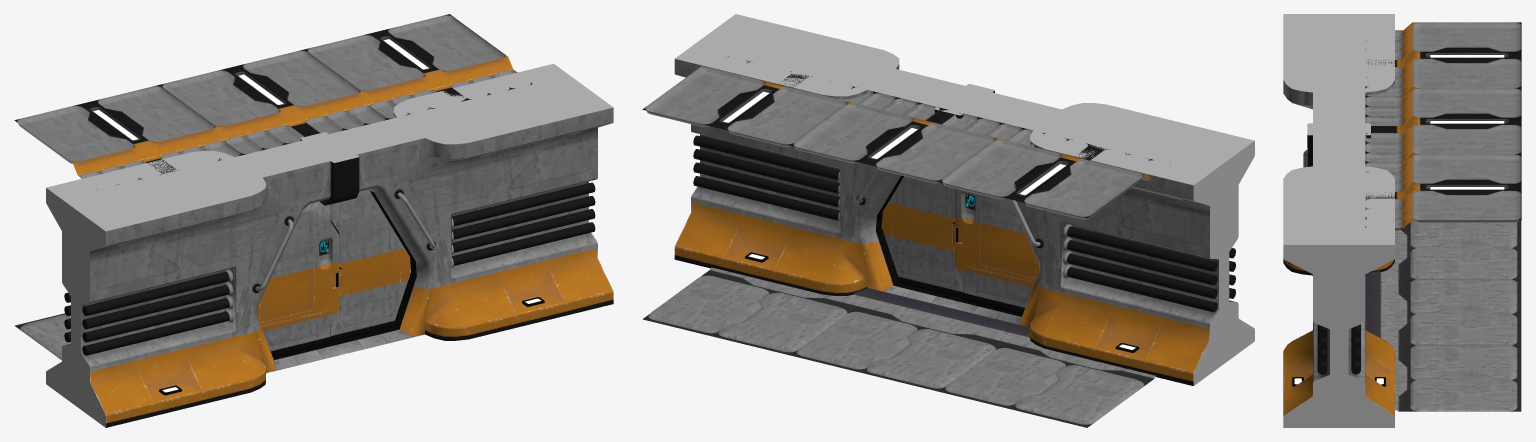
3 renders of one model, left to right at view 1: azimuth 30°, elevation 25°; view 2: azimuth 150°, elevation 25°; view 3: azimuth 270°, elevation 25°, orthographic. The views are drawn at different scales.
Visible parts, largest first — view 1: GroundTile; view 2: GroundTile; view 3: GroundTile.
Boxes of the visible parts, bbox=[...] form: GroundTile: bbox=[14, 14, 613, 427]; GroundTile: bbox=[642, 14, 1254, 427]; GroundTile: bbox=[1283, 14, 1521, 427].
Bounding box in the file's own units: 875 × 338 × 381.
3 materials, 3 textured.
